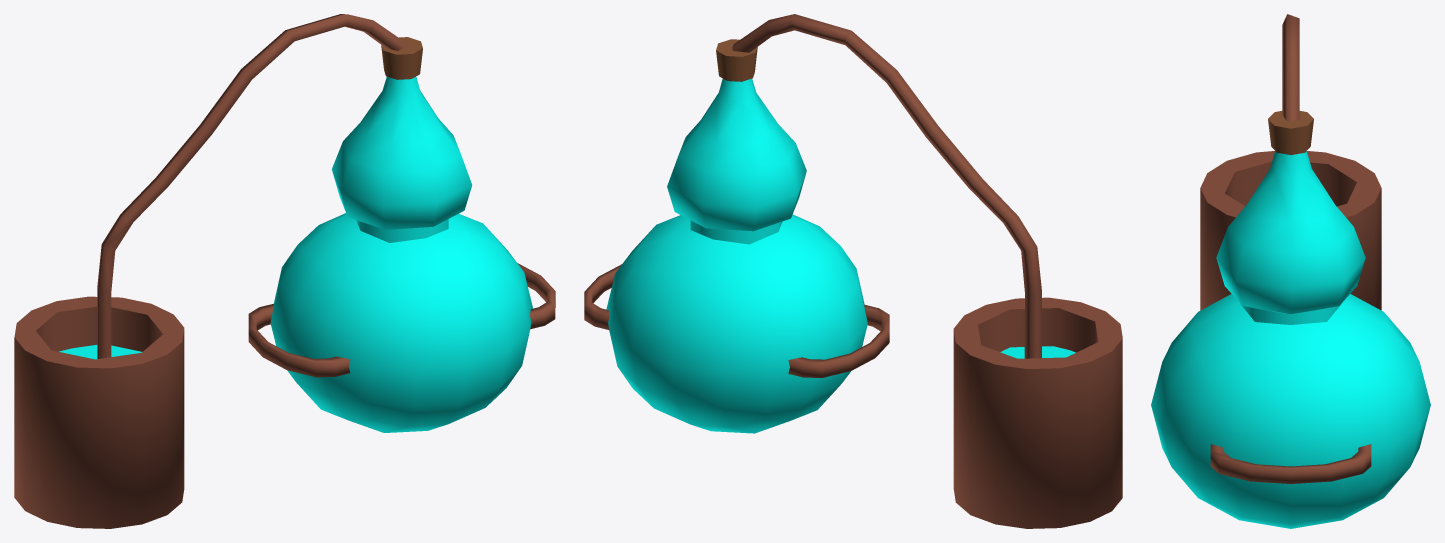
The model's file is alambic.fbx.
3 views of the same model, side by side, from view 1: azimuth 30°, elevation 25°; view 2: azimuth 150°, elevation 25°; view 3: azimuth 270°, elevation 25° (orthographic). The views are drawn at different scales.
Visible parts, largest first — view 1: Alambic; view 2: Alambic; view 3: Alambic.
Part boxes in pixels (left/top/right/bottom): Alambic: left=14, top=14, right=555, bottom=528; Alambic: left=584, top=14, right=1122, bottom=528; Alambic: left=1151, top=14, right=1430, bottom=528.
Bounding box in the file's own units: 194 × 152 × 86.42.
